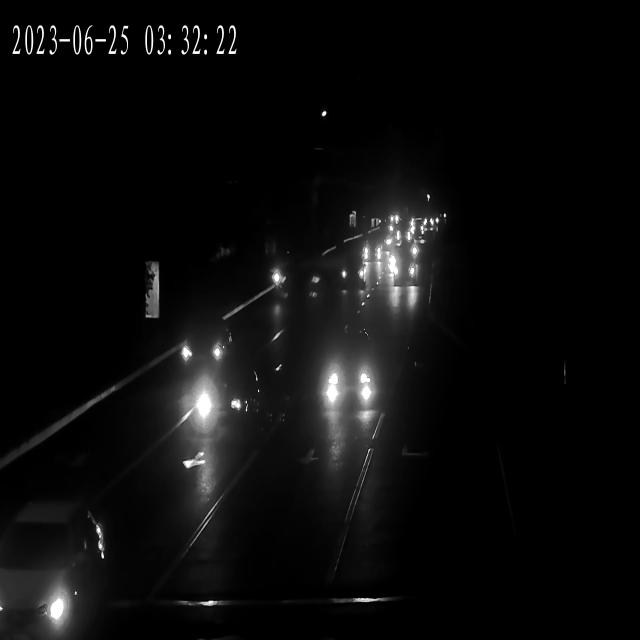Car: (2, 498, 110, 640), (185, 368, 261, 434), (318, 338, 384, 409), (175, 320, 240, 375), (394, 251, 418, 289), (337, 260, 369, 288), (359, 238, 388, 260), (396, 226, 411, 246), (412, 219, 424, 241), (380, 230, 392, 251), (388, 222, 400, 234), (389, 213, 401, 225), (430, 215, 441, 227)
